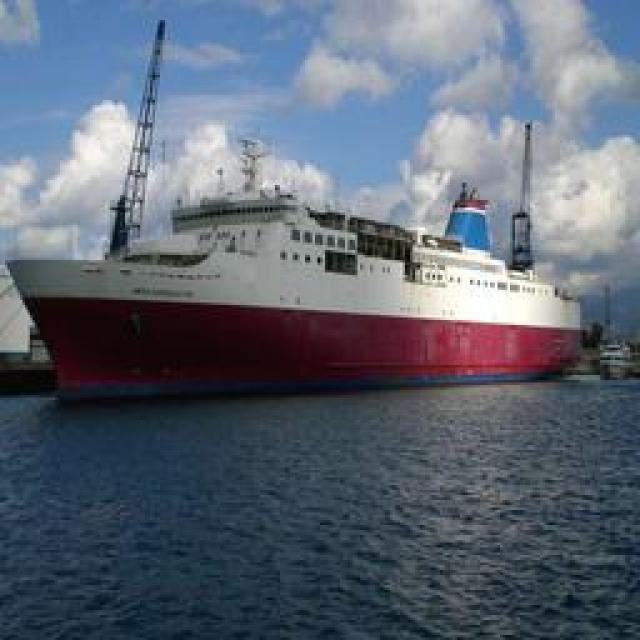CIV_Ship: (22, 162, 598, 390)
